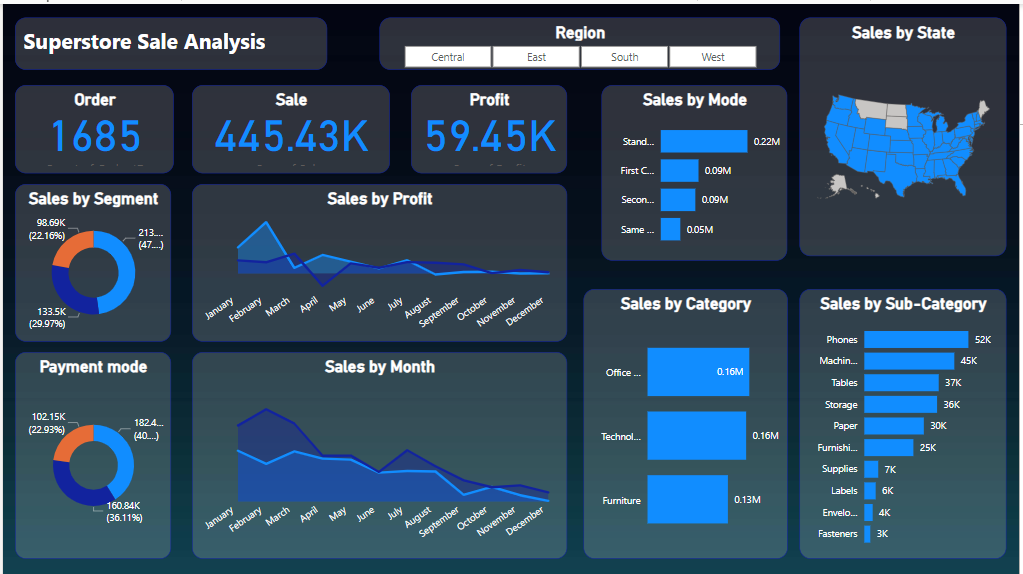

This screenshot's page, from the dashboard's own definition file:
{"tool":"powerbi","page":{"name":"Page 1","canvas":[1280,720],"ordinal":0},"visuals":[{"type":"clusteredBarChart","title":"Sales by Category","fields":{"Category":["SuperStore_Sales_Dataset.Category"],"Y":["Sum(SuperStore_Sales_Dataset.Sales)"]},"box":[731.3,359.1,257,340.2],"z":0},{"type":"clusteredBarChart","title":"Sales by Sub-Category","fields":{"Y":["Sum(SuperStore_Sales_Dataset.Sales)"],"Category":["SuperStore_Sales_Dataset.Sub-Category"]},"box":[1003.5,359.1,260.8,340.2],"z":1000},{"type":"shapeMap","title":"Sales by State","fields":{"Category":["SuperStore_Sales_Dataset.State"],"Value":["Sum(SuperStore_Sales_Dataset.Sales)"]},"box":[1003.5,17,260.8,300.5],"z":2000},{"type":"slicer","title":"Region","fields":{"Values":["SuperStore_Sales_Dataset.Region"]},"box":[474.3,17,504.6,66.1],"z":3000},{"type":"clusteredBarChart","title":"Sales by Mode","fields":{"Category":["SuperStore_Sales_Dataset.Ship Mode"],"Y":["Sum(SuperStore_Sales_Dataset.Sales)"]},"box":[754,102,234.3,221.1],"z":4000},{"type":"areaChart","title":"Sales by Month","fields":{"Y":["Sum(SuperStore_Sales_Dataset.Sales)"],"Category":["SuperStore_Sales_Dataset.Order Date.Variation.Date Hierarchy.Month"],"Series":["SuperStore_Sales_Dataset.Order Date.Variation.Date Hierarchy.Year"]},"box":[238.1,438.4,472.4,260.8],"z":5000},{"type":"areaChart","title":"Sales by Profit","fields":{"Category":["SuperStore_Sales_Dataset.Order Date.Variation.Date Hierarchy.Month"],"Series":["SuperStore_Sales_Dataset.Order Date.Variation.Date Hierarchy.Year"],"Y":["Sum(SuperStore_Sales_Dataset.Profit)"]},"box":[238.1,226.8,472.4,198.4],"z":6000},{"type":"textbox","box":[15.1,17,393.1,66.1],"z":7000},{"type":"card","title":"Profit","fields":{"Values":["Sum(SuperStore_Sales_Dataset.Profit)"]},"box":[514,102,196.5,111.5],"z":8000},{"type":"card","title":"Sale","fields":{"Values":["Sum(SuperStore_Sales_Dataset.Sales)"]},"box":[238.1,102,249.5,111.5],"z":9000},{"type":"donutChart","title":" Sales by Segment","fields":{"Category":["SuperStore_Sales_Dataset.Segment"],"Y":["Sum(SuperStore_Sales_Dataset.Sales)"]},"box":[15.1,226.8,196.5,198.4],"z":10000},{"type":"donutChart","title":"Payment mode","fields":{"Y":["Sum(SuperStore_Sales_Dataset.Sales)"],"Category":["SuperStore_Sales_Dataset.Payment Mode"]},"box":[15.1,438.4,196.5,260.8],"z":11000},{"type":"card","title":"Order","fields":{"Values":["CountNonNull(SuperStore_Sales_Dataset.Order ID)"]},"box":[15.1,102,200.3,111.5],"z":12000}]}

Visuals, with their boxes in screenshot pixels (x1, y1, x2, y2), scaled from the page's 1280x720 canvas onto the 1023x574 screenshot:
"Sales by Category" clusteredBarChart: 584:286:790:557
"Sales by Sub-Category" clusteredBarChart: 802:286:1010:557
"Sales by State" shapeMap: 802:14:1010:253
"Region" slicer: 379:14:782:66
"Sales by Mode" clusteredBarChart: 603:81:790:258
"Sales by Month" areaChart: 190:350:568:557
"Sales by Profit" areaChart: 190:181:568:339
textbox: 12:14:326:66
"Profit" card: 411:81:568:170
"Sale" card: 190:81:390:170
" Sales by Segment" donutChart: 12:181:169:339
"Payment mode" donutChart: 12:350:169:557
"Order" card: 12:81:172:170
